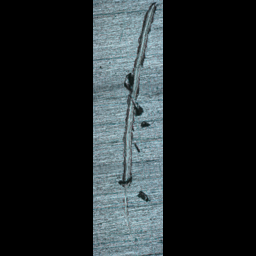d: (116, 1, 159, 249)
